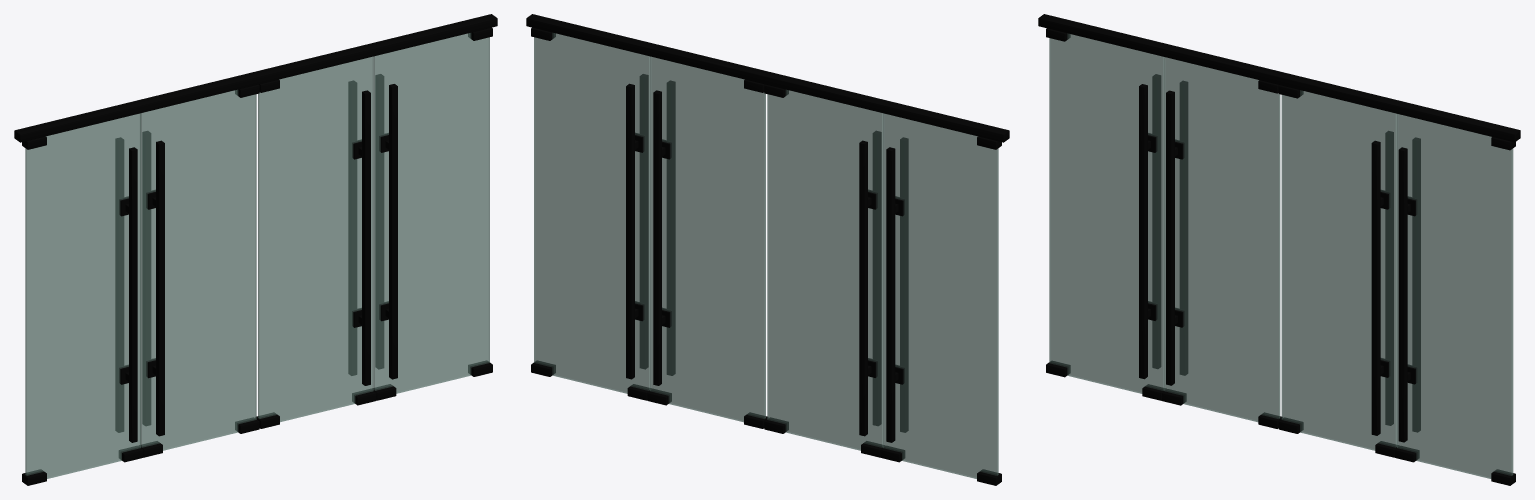
Rendered from Puerta2.fbx.
3 renders of one model, left to right at view 1: azimuth 30°, elevation 25°; view 2: azimuth 150°, elevation 25°; view 3: azimuth 330°, elevation 25°, orthographic.
Visible parts, largest first — view 1: Object004, ChamferBox002, ChamferBox001, ChamferBox003; view 2: Object004, ChamferBox002, ChamferBox001, ChamferBox003; view 3: Object004, ChamferBox002, ChamferBox001, ChamferBox003.
Part boxes in pixels (x1,y1,x2,y2): Object004: (25, 33, 489, 478); ChamferBox002: (115, 74, 397, 442); ChamferBox001: (14, 14, 497, 142); ChamferBox003: (22, 27, 492, 485); Object004: (534, 33, 998, 478); ChamferBox002: (626, 74, 908, 442); ChamferBox001: (526, 14, 1009, 142); ChamferBox003: (531, 27, 1001, 485); Object004: (1049, 33, 1513, 478); ChamferBox002: (1139, 74, 1420, 442); ChamferBox001: (1038, 14, 1520, 142); ChamferBox003: (1046, 28, 1515, 485).
Bounding box in the file's own units: 597 × 423 × 36.72.
